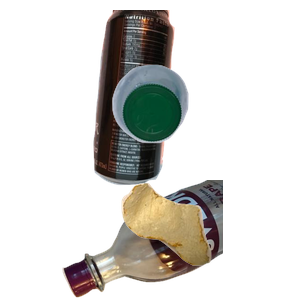glass: (60, 180, 300, 300)
metal: (91, 10, 258, 188)
plastic: (110, 62, 300, 198)
trash: (119, 181, 300, 300)
